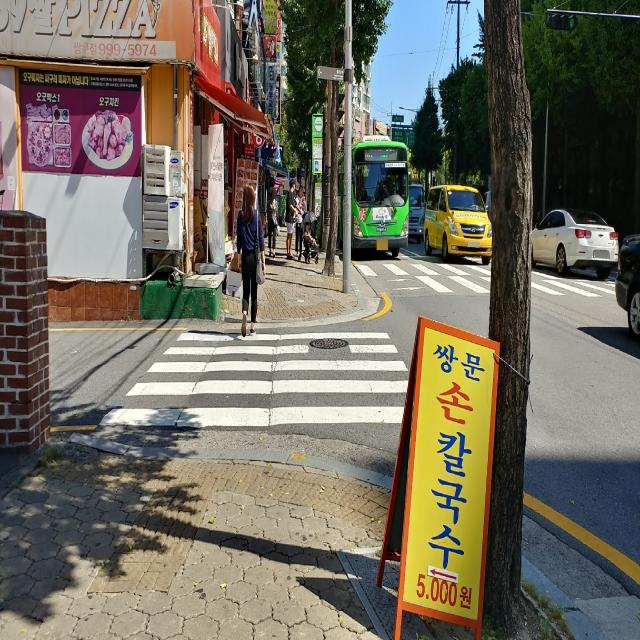횡단보도: (98, 330, 410, 430), (346, 258, 631, 308)
